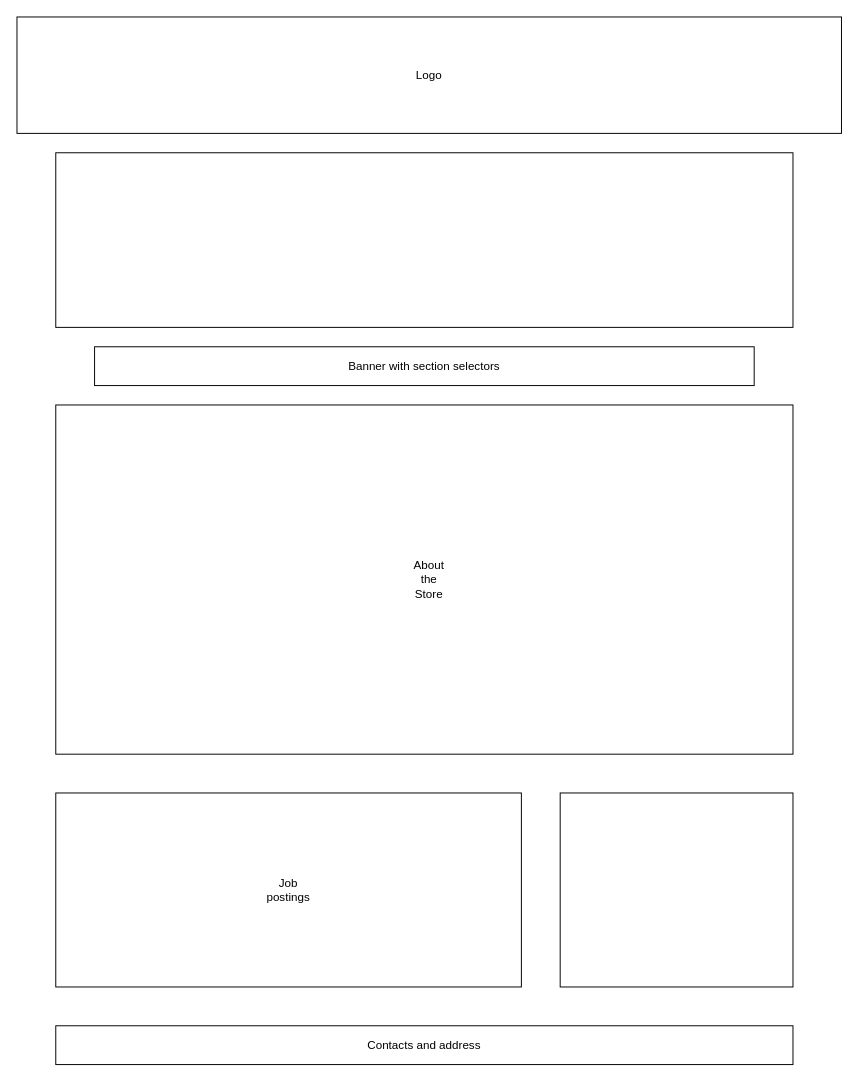
The diagram is 858 pixels wide and 1082 high, and some of its shapes have lost their labels. The shapes that lost their labels are listed below. From the top down, each one's centre as x and y in pixels, then its label:
point (424, 239): Store Picture
point (676, 889): List of Owner and Managers
